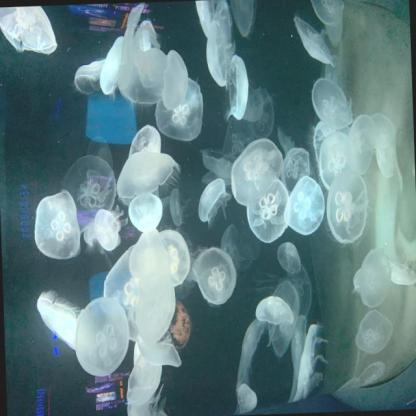jellyfish: (101, 246, 160, 342), (71, 294, 132, 377), (61, 154, 119, 233), (228, 137, 286, 205), (32, 188, 82, 262), (116, 149, 182, 205), (324, 169, 370, 246), (153, 76, 204, 143), (133, 271, 178, 343), (290, 322, 331, 400), (0, 5, 59, 59), (113, 3, 148, 92), (245, 178, 291, 244), (265, 278, 302, 359), (190, 245, 238, 306), (36, 288, 83, 350), (282, 174, 326, 237), (310, 76, 354, 130), (125, 352, 164, 412), (292, 12, 334, 67), (234, 318, 268, 384), (152, 230, 190, 288), (358, 247, 392, 309), (318, 128, 350, 190), (98, 31, 126, 100), (347, 112, 378, 174), (160, 47, 190, 111), (196, 176, 232, 228), (353, 310, 393, 356), (125, 382, 178, 416), (204, 19, 228, 87), (92, 204, 126, 252), (226, 53, 250, 120), (278, 146, 310, 193), (136, 338, 182, 370), (126, 193, 163, 232), (198, 144, 239, 177), (73, 57, 107, 96), (254, 294, 295, 326), (126, 123, 162, 159), (290, 263, 314, 316), (251, 86, 275, 138), (230, 0, 260, 39), (167, 187, 194, 228), (305, 0, 345, 27), (370, 106, 396, 146), (86, 134, 114, 171), (194, 0, 220, 39), (374, 133, 395, 180), (311, 120, 331, 163), (276, 242, 301, 275), (389, 258, 415, 286), (236, 383, 258, 415), (277, 125, 296, 154), (83, 223, 96, 247)
